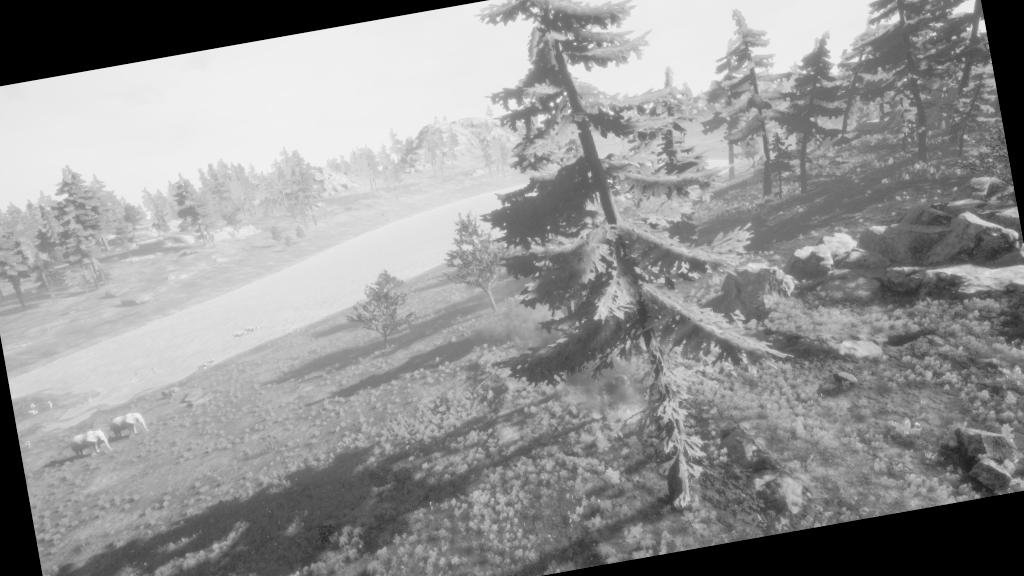Fire: (598, 398, 650, 428), (68, 392, 94, 410)
elephant: (60, 424, 116, 463), (104, 403, 153, 444)
smoke: (494, 305, 550, 354), (580, 356, 630, 404)
